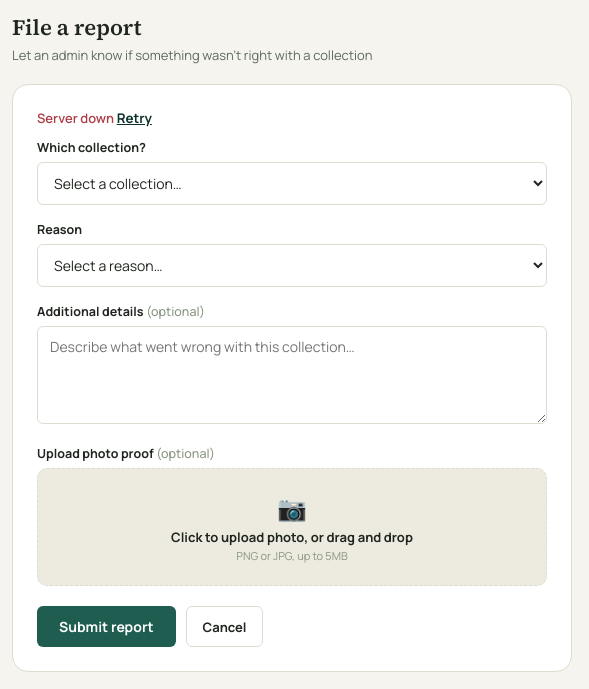
Test case: shows a load error with retry, and a hint when there is nothing to report
Expected: the message "Server down Retry" is shown, [37,109,152,127]
Click the button with class "btn-link" at {"x": 134, "y": 118}, box [117,109,152,127]
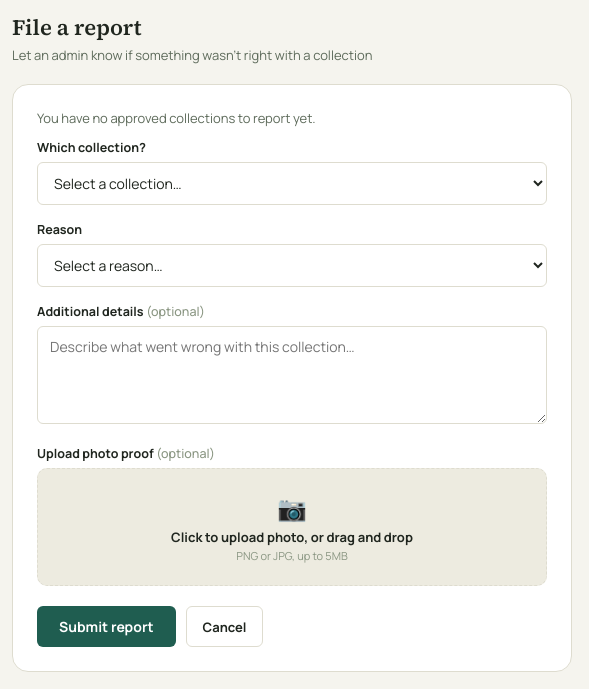
Result: the text "You have no approved collections to report yet." is shown at [37,109,316,127]
